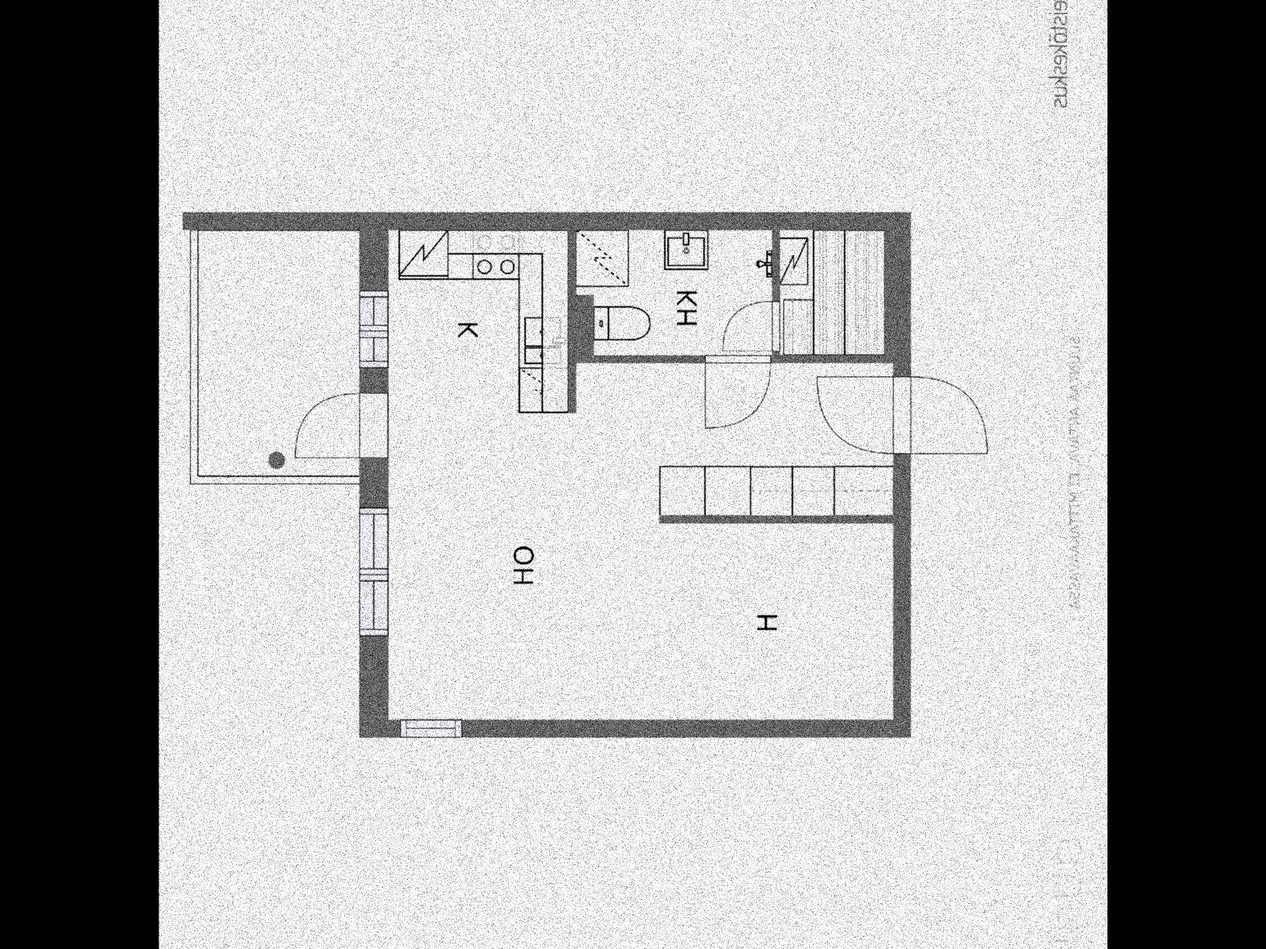door: (816, 375, 988, 454), (293, 387, 384, 460), (701, 353, 780, 431), (718, 297, 785, 357)
window: (357, 508, 392, 634), (357, 293, 388, 369), (399, 720, 463, 740)
zone: (388, 234, 892, 718), (193, 236, 360, 475), (576, 230, 769, 355), (777, 228, 883, 356)
